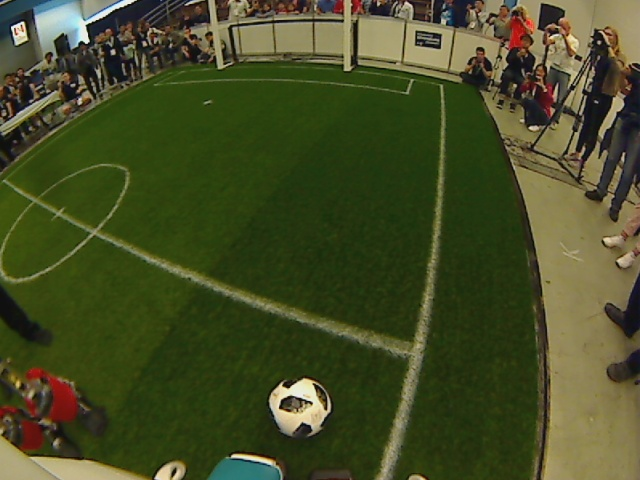ball: (264, 372, 331, 441)
